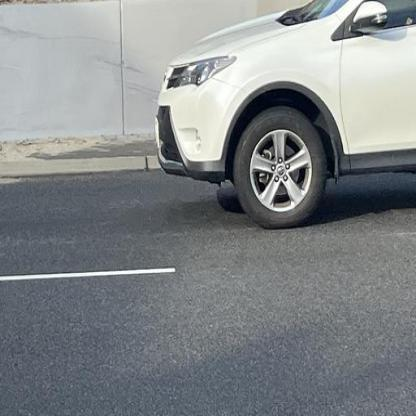Tire: (233, 105, 327, 229)
